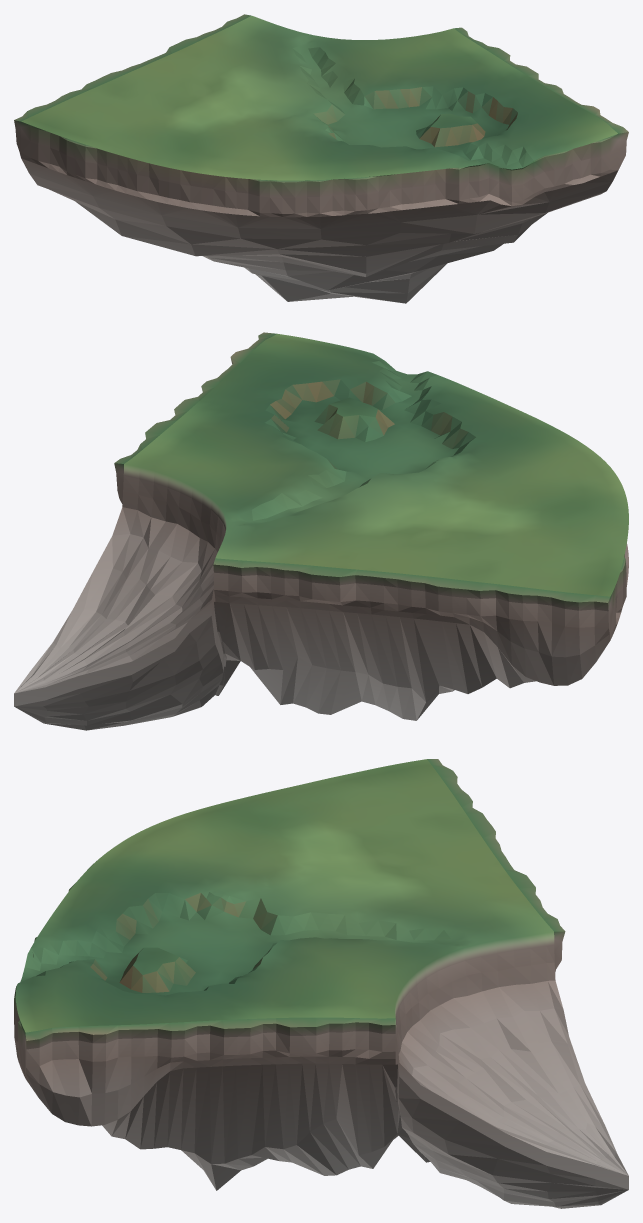
The model's file is piece_wetland.glb.
The picture shows the model from 3 angles, top to bottom: view 1: azimuth 30°, elevation 25°; view 2: azimuth 150°, elevation 25°; view 3: azimuth 270°, elevation 25°; orthographic projection. The views are drawn at different scales.
Parts seen in each view (by area): view 1: piece_wetland, skirt_cottage, skirt_meadow; view 2: piece_wetland, skirt_cottage, skirt_meadow; view 3: piece_wetland, skirt_meadow, skirt_cottage.
Boxes of the visible parts, x1,y1,x2,y2 form: piece_wetland: (21, 15, 618, 303); skirt_cottage: (14, 14, 250, 156); skirt_meadow: (454, 27, 628, 178); piece_wetland: (14, 334, 628, 730); skirt_cottage: (213, 558, 610, 685); skirt_meadow: (114, 332, 276, 504); piece_wetland: (14, 759, 628, 1208); skirt_meadow: (25, 1017, 395, 1126); skirt_cottage: (427, 759, 565, 972).
Bounding box in the file's own units: 25.88 × 10.8 × 24.16.
